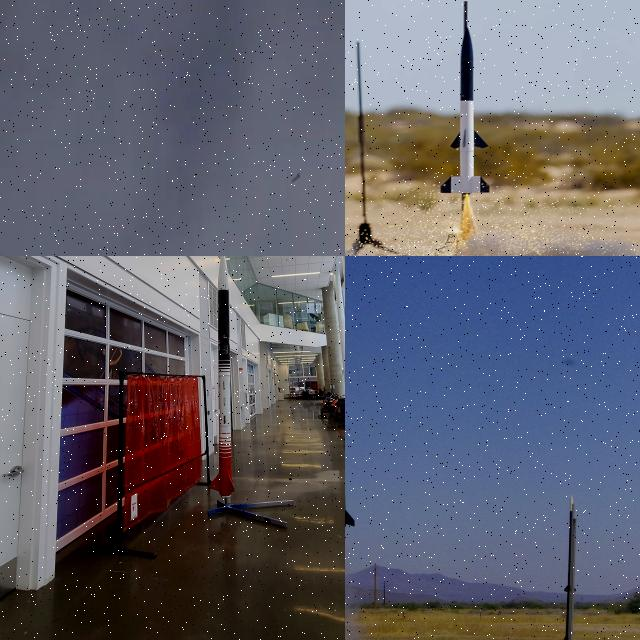Rocket: (439, 28, 492, 193), (210, 256, 235, 496), (561, 495, 576, 640), (345, 431, 355, 527), (291, 171, 301, 184)
